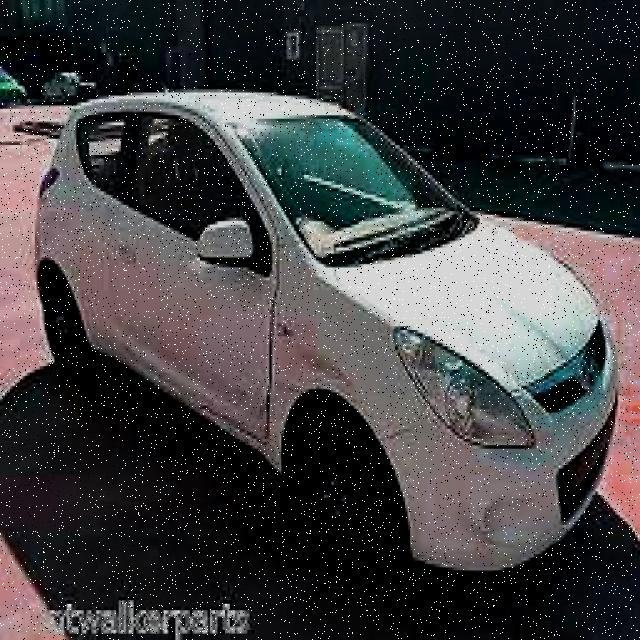car damage: (184, 329, 407, 471)
